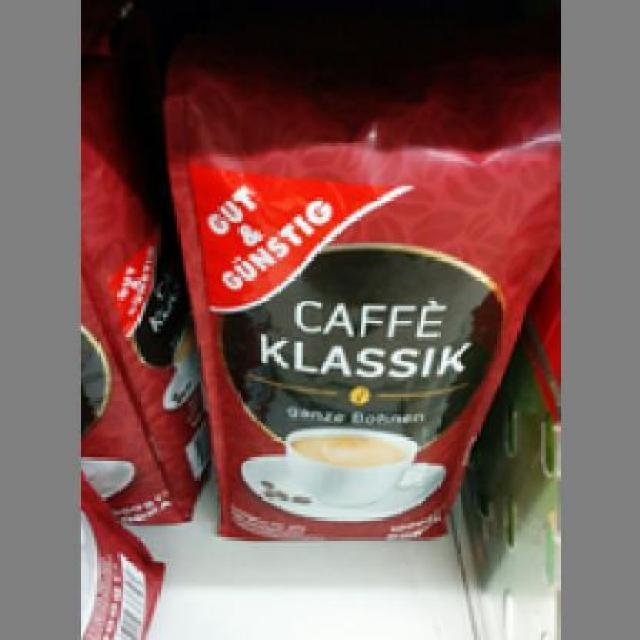Coffee: (160, 49, 554, 540)
